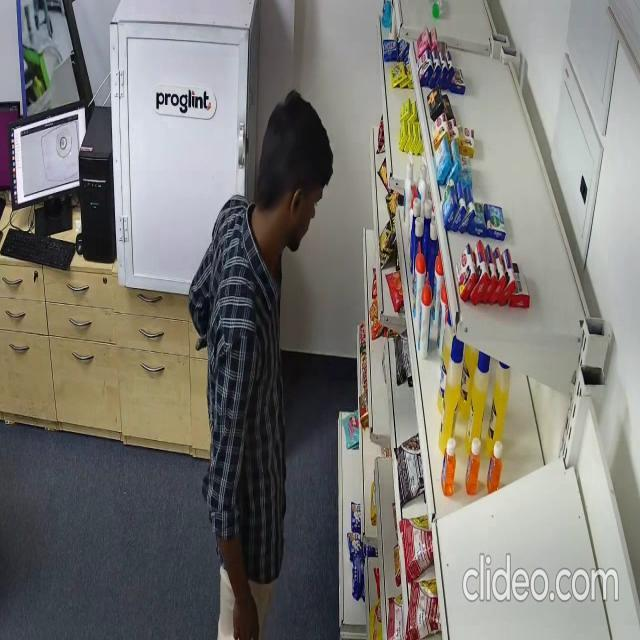Shoplifting: (192, 90, 333, 640)
